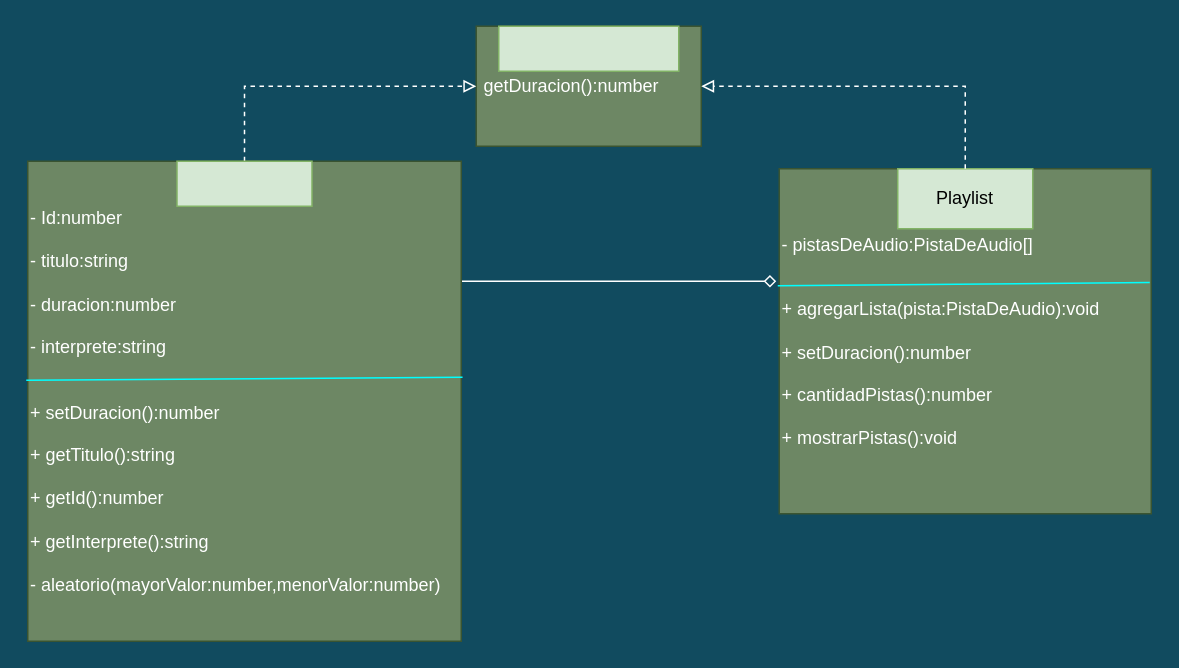
Image size: 1179x668. Some labels were removed from this diagram. The box of each missing label's shape, as (x1, y1, x2, y2) in pixels:
<<Pista>>: (497, 25, 679, 71)
PistaDeAudio: (176, 160, 312, 206)
